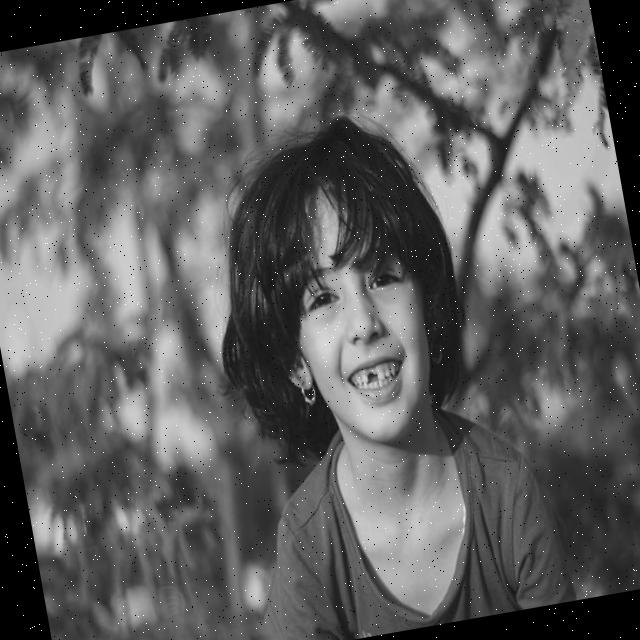Happiness: (266, 172, 456, 460)
